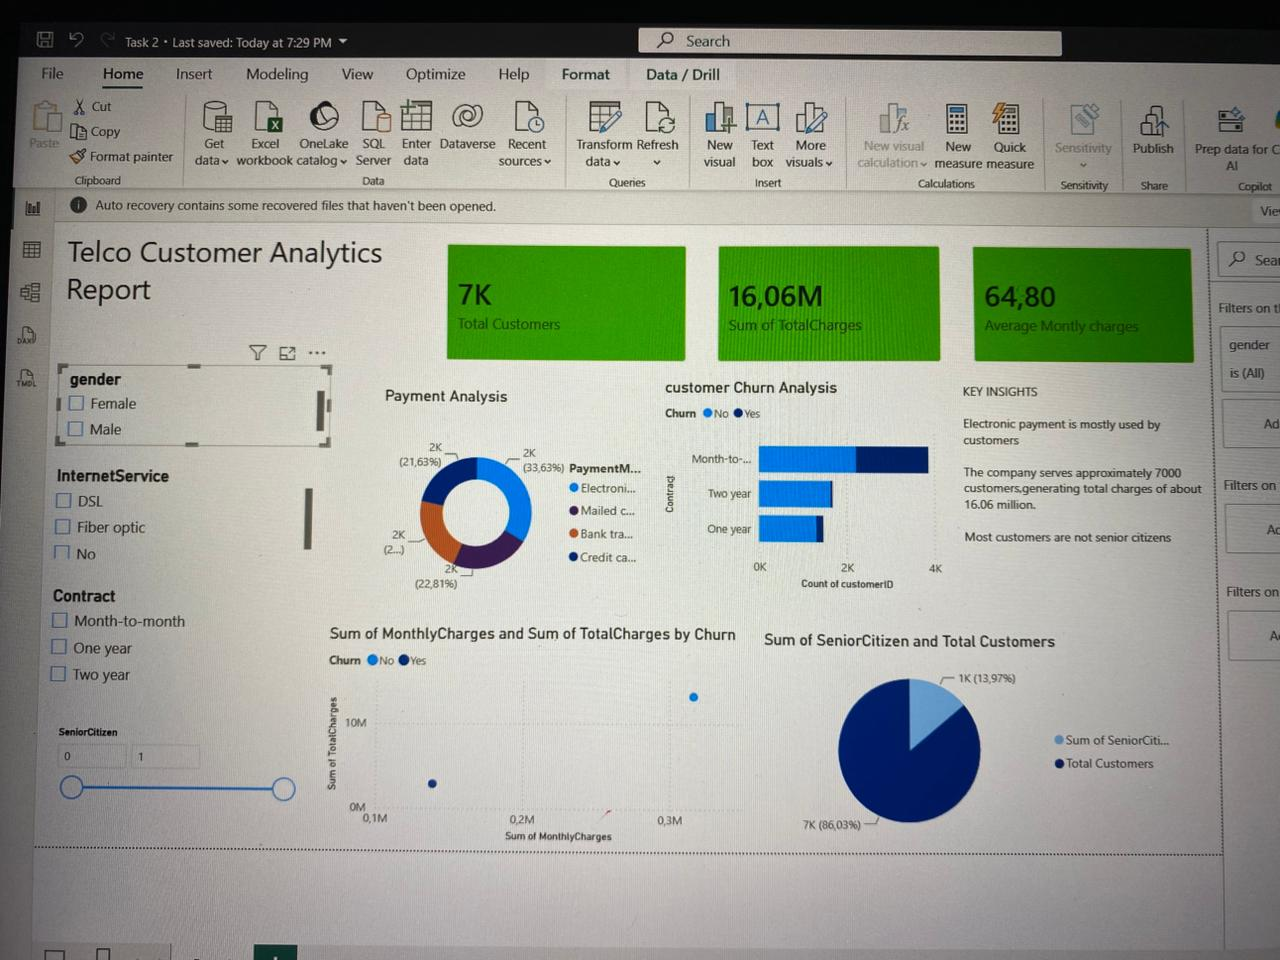

The page's visual inventory and layout, read from the dashboard file:
{"tool":"powerbi","page":{"name":"Page 1","canvas":[1280,720],"ordinal":0},"visuals":[{"type":"cardVisual","fields":{"Data":["Sum(WA_Fn-UseC_-Telco-Customer-Churn.TotalCharges)"]},"box":[720.4,43.9,279.9,164.7],"z":0},{"type":"cardVisual","fields":{"Data":["WA_Fn-UseC_-Telco-Customer-Churn.Average Montly charges"]},"box":[1000.3,43.9,279.9,164.7],"z":1},{"type":"cardVisual","fields":{"Data":["WA_Fn-UseC_-Telco-Customer-Churn.Total Customers"]},"box":[419.9,43.9,300.5,164.7],"z":2},{"type":"slicer","fields":{"Values":["WA_Fn-UseC_-Telco-Customer-Churn.gender"]},"box":[11,197.6,300.5,89.2],"z":3},{"type":"slicer","fields":{"Values":["WA_Fn-UseC_-Telco-Customer-Churn.InternetService"]},"box":[0,304.6,300.5,111.1],"z":4},{"type":"slicer","fields":{"Values":["WA_Fn-UseC_-Telco-Customer-Churn.Contract"]},"box":[0,435,300.5,130.4],"z":5},{"type":"slicer","fields":{"Values":["WA_Fn-UseC_-Telco-Customer-Churn.SeniorCitizen"]},"box":[11,585.9,279.9,107],"z":6},{"type":"barChart","title":" customer  Churn Analysis","fields":{"Category":["WA_Fn-UseC_-Telco-Customer-Churn.Contract"],"Series":["WA_Fn-UseC_-Telco-Customer-Churn.Churn"],"Y":["CountNonNull(WA_Fn-UseC_-Telco-Customer-Churn.customerID)"]},"box":[675.1,208.6,310.1,236],"z":7},{"type":"donutChart","title":"Payment Analysis","fields":{"Y":["WA_Fn-UseC_-Telco-Customer-Churn.Total Customers"],"Category":["WA_Fn-UseC_-Telco-Customer-Churn.PaymentMethod"]},"box":[366.4,220.9,300.5,258],"z":8},{"type":"scatterChart","fields":{"X":["Sum(WA_Fn-UseC_-Telco-Customer-Churn.MonthlyCharges)"],"Y":["Sum(WA_Fn-UseC_-Telco-Customer-Churn.TotalCharges)"],"Series":["WA_Fn-UseC_-Telco-Customer-Churn.Churn"]},"box":[311.5,478.9,472,236],"z":9},{"type":"pieChart","fields":{"Y":["Sum(WA_Fn-UseC_-Telco-Customer-Churn.SeniorCitizen)","WA_Fn-UseC_-Telco-Customer-Churn.Total Customers"]},"box":[783.5,484.4,456.9,236],"z":10},{"type":"textbox","box":[1000,209,280,236],"z":11},{"type":"textbox","box":[11,43.9,408.9,118],"z":12}]}

Visuals, with their boxes on the page's 1280x720 design canvas (x1, y1, x2, y2). These are canvas units, not pixel positions in the 1280x960 screenshot, which may show the page scaled, cropped or inside an application window:
cardVisual - Sum(WA_Fn-UseC_-Telco-Customer-Churn.TotalCharges): [left=720, top=44, right=1000, bottom=209]
cardVisual - WA_Fn-UseC_-Telco-Customer-Churn.Average Montly charges: [left=1000, top=44, right=1280, bottom=209]
cardVisual - WA_Fn-UseC_-Telco-Customer-Churn.Total Customers: [left=420, top=44, right=720, bottom=209]
slicer - WA_Fn-UseC_-Telco-Customer-Churn.gender: [left=11, top=198, right=312, bottom=287]
slicer - WA_Fn-UseC_-Telco-Customer-Churn.InternetService: [left=0, top=305, right=300, bottom=416]
slicer - WA_Fn-UseC_-Telco-Customer-Churn.Contract: [left=0, top=435, right=300, bottom=565]
slicer - WA_Fn-UseC_-Telco-Customer-Churn.SeniorCitizen: [left=11, top=586, right=291, bottom=693]
" customer  Churn Analysis" barChart: [left=675, top=209, right=985, bottom=445]
"Payment Analysis" donutChart: [left=366, top=221, right=667, bottom=479]
scatterChart - Sum(WA_Fn-UseC_-Telco-Customer-Churn.MonthlyCharges) x Sum(WA_Fn-UseC_-Telco-Customer-Churn.TotalCharges): [left=312, top=479, right=784, bottom=715]
pieChart - Sum(WA_Fn-UseC_-Telco-Customer-Churn.SeniorCitizen) x WA_Fn-UseC_-Telco-Customer-Churn.Total Customers: [left=784, top=484, right=1240, bottom=720]
textbox: [left=1000, top=209, right=1280, bottom=445]
textbox: [left=11, top=44, right=420, bottom=162]
